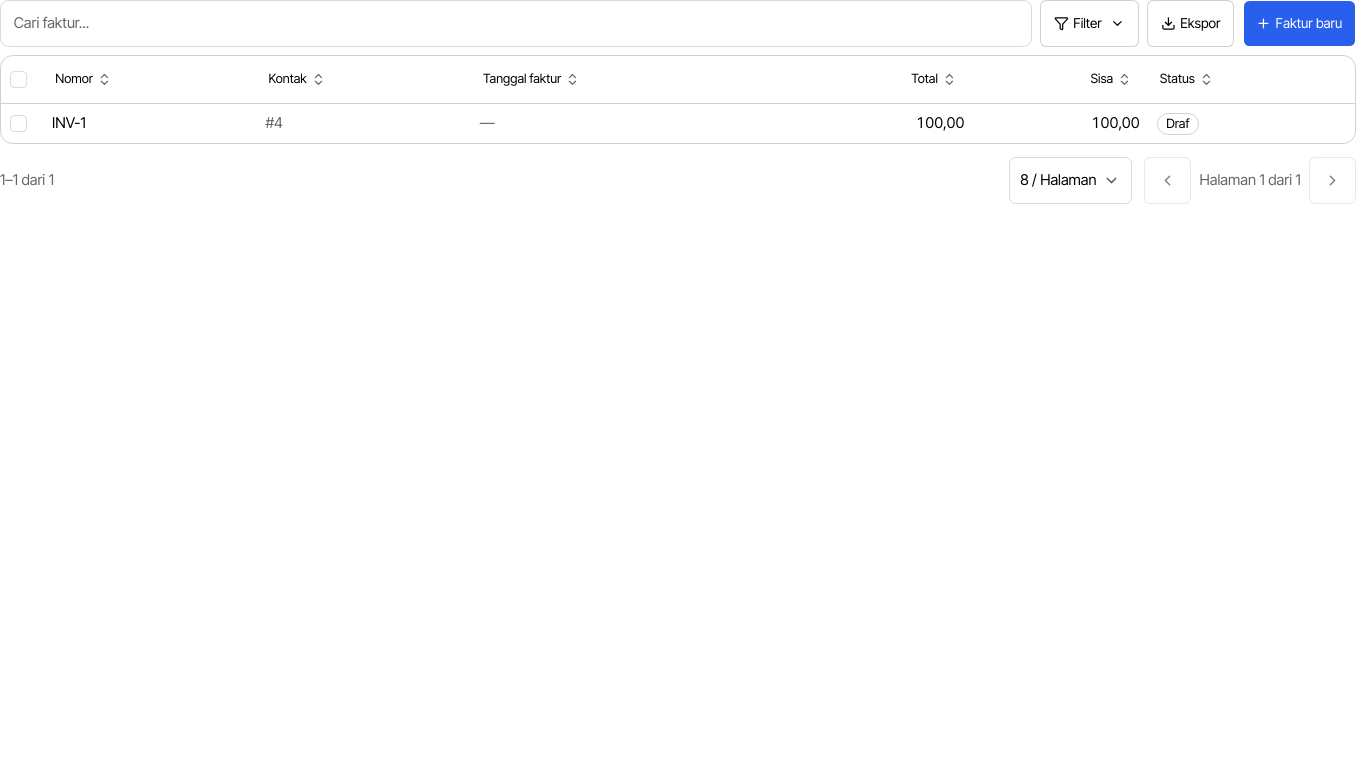
Scenario: InvoicesSection branches3 › keeps save disabled without contact and journal
This screenshot has width=1366, height=768.
Expected: the link "INV-1" is shown, left=52, top=114, right=86, bottom=132
What coordinates should you click on to do the following:
click the button "Faktur baru"
I would click on:
 (1299, 23)
Its box is left=1243, top=0, right=1356, bottom=47.
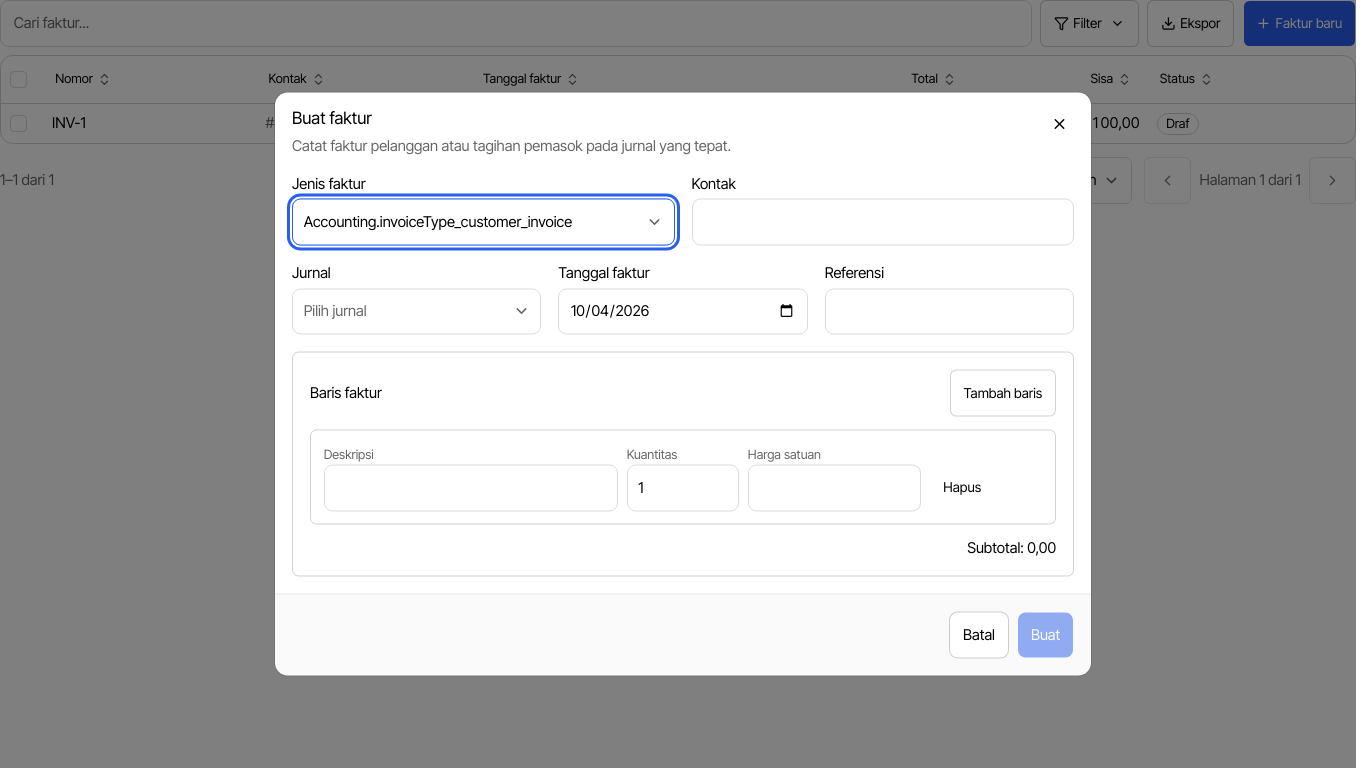
Expected: the dialog is shown, left=275, top=92, right=1091, bottom=676
Expected: the button "Buat" is disabled, left=1017, top=612, right=1074, bottom=659
